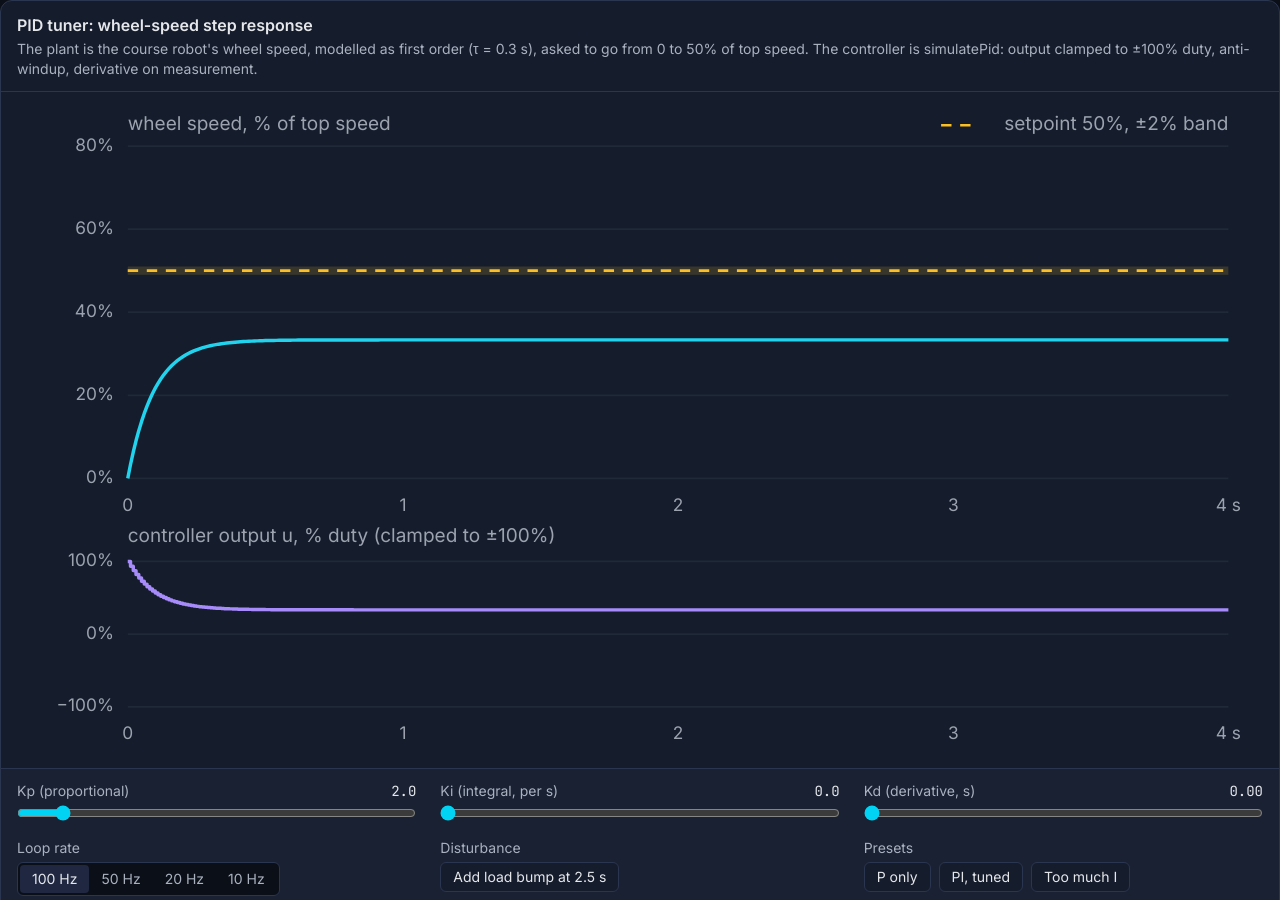
Test case: robotics-a visualizations › PidTuner plots simulatePid and its readouts follow the gains
Click the button "PI, tuned" at point(981, 877), box [938,862,1023,892]
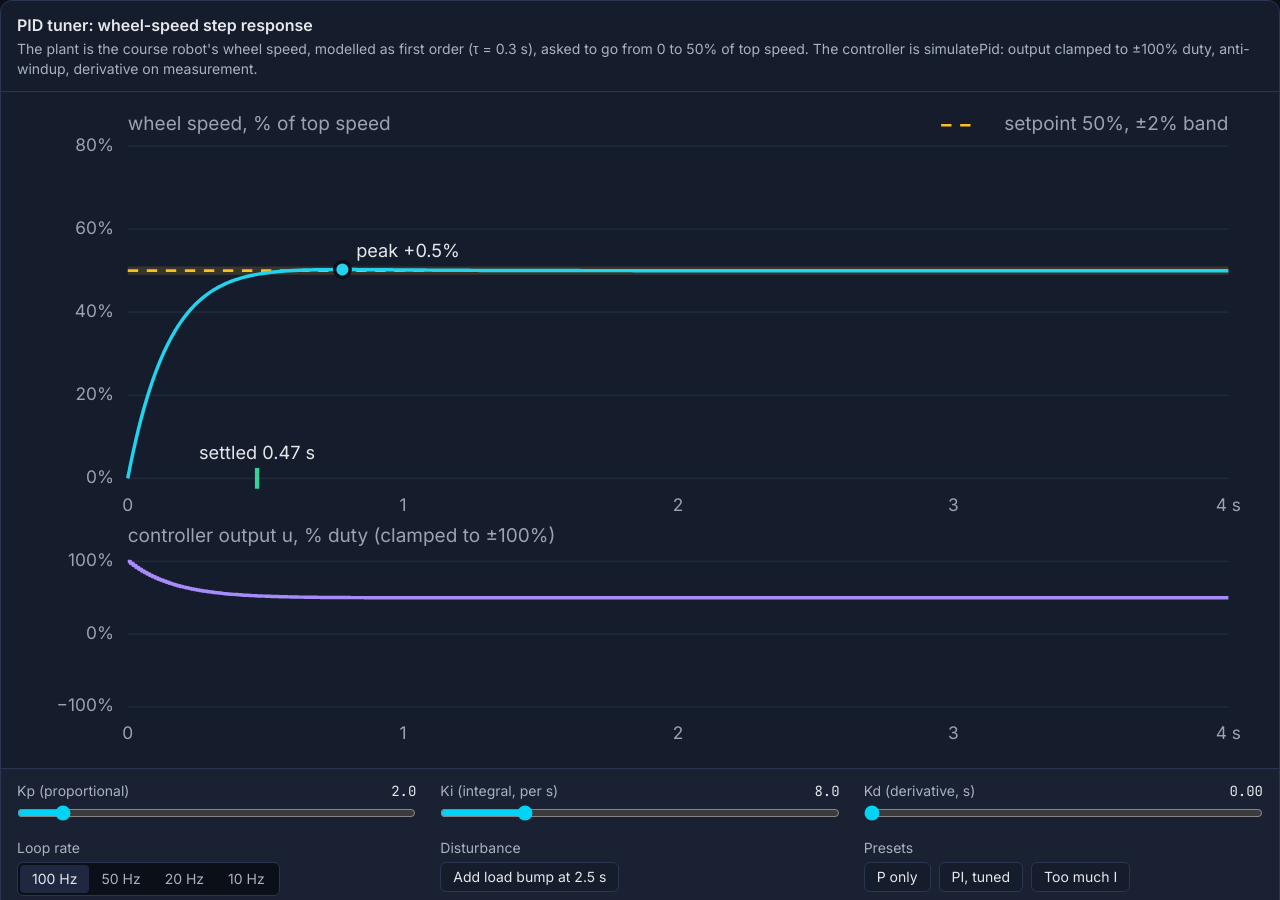
Set the slider labelled "Kp (proportional) 2.0" to "5" at point(121, 813), box [17,805,416,821]
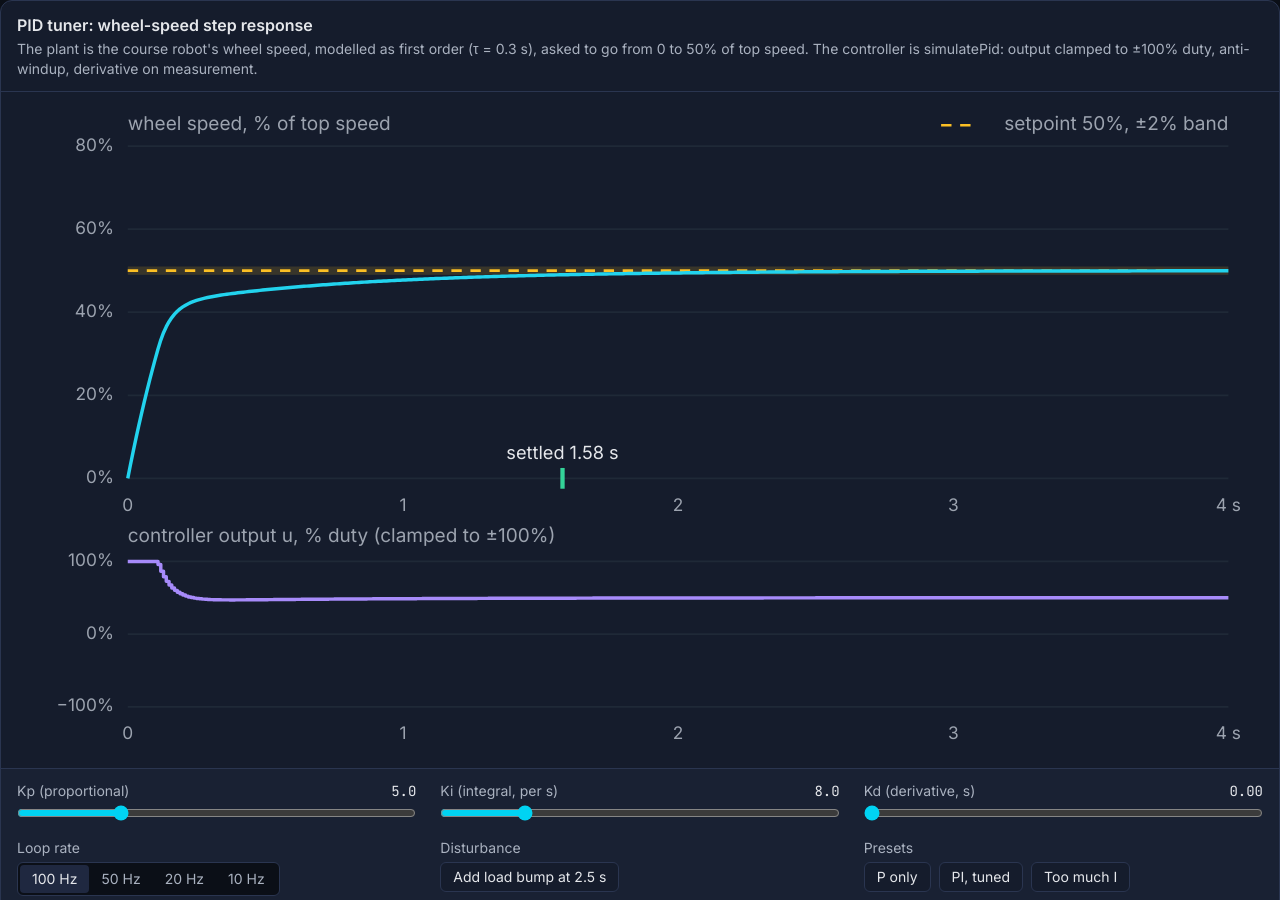
Expected: the icon with test id "pid-overshoot" no longer shows "0.5%"
